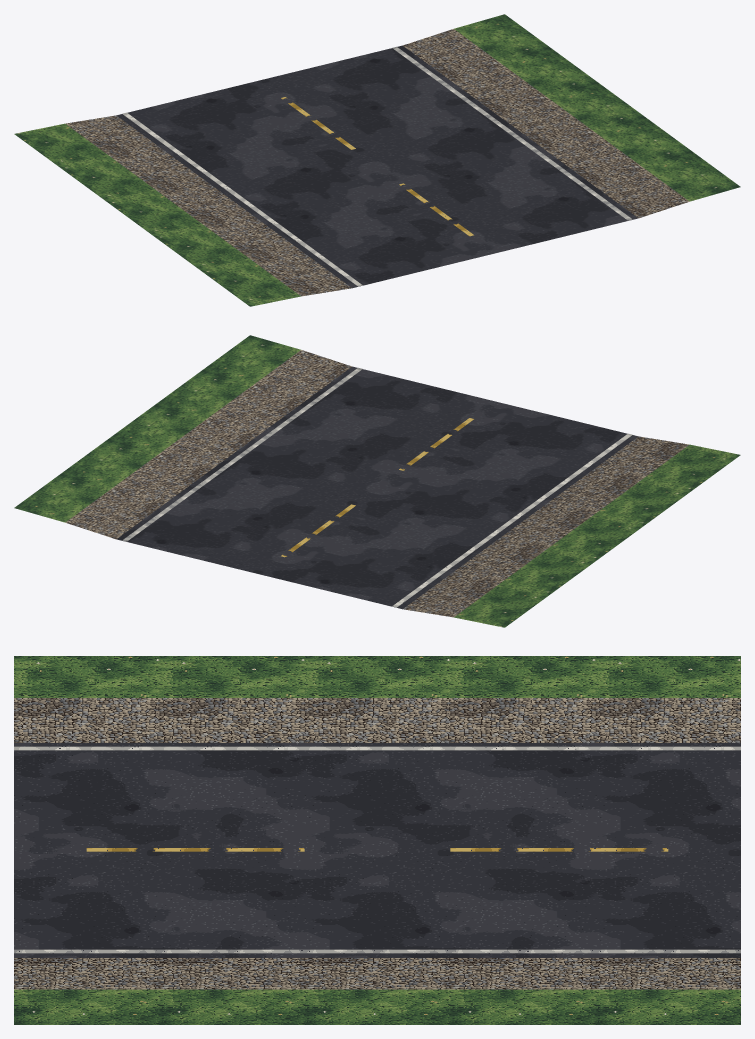
Rendered from RD_Shoulder_Rural_10m.obj.
3 views of the same model, one above another, from view 1: azimuth 30°, elevation 25°; view 2: azimuth 150°, elevation 25°; view 3: azimuth 270°, elevation 25° (orthographic). The views are drawn at different scales.
Visible parts, largest first — view 1: RD_Shoulder_Rural_10m_Mesh_M_Road_Asphalt, RD_Shoulder_Rural_10m_Mesh_M_Road_Gravel, RD_Shoulder_Rural_10m_Mesh_M_Grnd_GrassOvergrown, RD_Shoulder_Rural_10m_Mesh_M_Road_MarkingWhite, RD_Shoulder_Rural_10m_Mesh_M_Road_MarkingYellow; view 2: RD_Shoulder_Rural_10m_Mesh_M_Road_Asphalt, RD_Shoulder_Rural_10m_Mesh_M_Road_Gravel, RD_Shoulder_Rural_10m_Mesh_M_Grnd_GrassOvergrown, RD_Shoulder_Rural_10m_Mesh_M_Road_MarkingWhite, RD_Shoulder_Rural_10m_Mesh_M_Road_MarkingYellow; view 3: RD_Shoulder_Rural_10m_Mesh_M_Road_Asphalt, RD_Shoulder_Rural_10m_Mesh_M_Grnd_GrassOvergrown, RD_Shoulder_Rural_10m_Mesh_M_Road_Gravel, RD_Shoulder_Rural_10m_Mesh_M_Road_MarkingWhite, RD_Shoulder_Rural_10m_Mesh_M_Road_MarkingYellow.
Boxes of the visible parts, x1,y1,x2,y2 form: RD_Shoulder_Rural_10m_Mesh_M_Road_Asphalt: (116,45,638,288); RD_Shoulder_Rural_10m_Mesh_M_Road_Gravel: (65,29,689,296); RD_Shoulder_Rural_10m_Mesh_M_Grnd_GrassOvergrown: (14,14,740,306); RD_Shoulder_Rural_10m_Mesh_M_Road_MarkingWhite: (122,46,632,286); RD_Shoulder_Rural_10m_Mesh_M_Road_MarkingYellow: (281,97,473,236); RD_Shoulder_Rural_10m_Mesh_M_Road_Asphalt: (116,366,638,609); RD_Shoulder_Rural_10m_Mesh_M_Road_Gravel: (65,350,689,617); RD_Shoulder_Rural_10m_Mesh_M_Grnd_GrassOvergrown: (14,335,740,627); RD_Shoulder_Rural_10m_Mesh_M_Road_MarkingWhite: (122,367,632,607); RD_Shoulder_Rural_10m_Mesh_M_Road_MarkingYellow: (281,418,473,557); RD_Shoulder_Rural_10m_Mesh_M_Road_Asphalt: (14,743,740,957); RD_Shoulder_Rural_10m_Mesh_M_Grnd_GrassOvergrown: (14,656,740,1024); RD_Shoulder_Rural_10m_Mesh_M_Road_Gravel: (14,698,740,989); RD_Shoulder_Rural_10m_Mesh_M_Road_MarkingWhite: (14,746,740,953); RD_Shoulder_Rural_10m_Mesh_M_Road_MarkingYellow: (86,848,668,851).
Size of the model in its own units: 12 by 0.15 by 10.
Materials: 5 (5 with a texture image).
